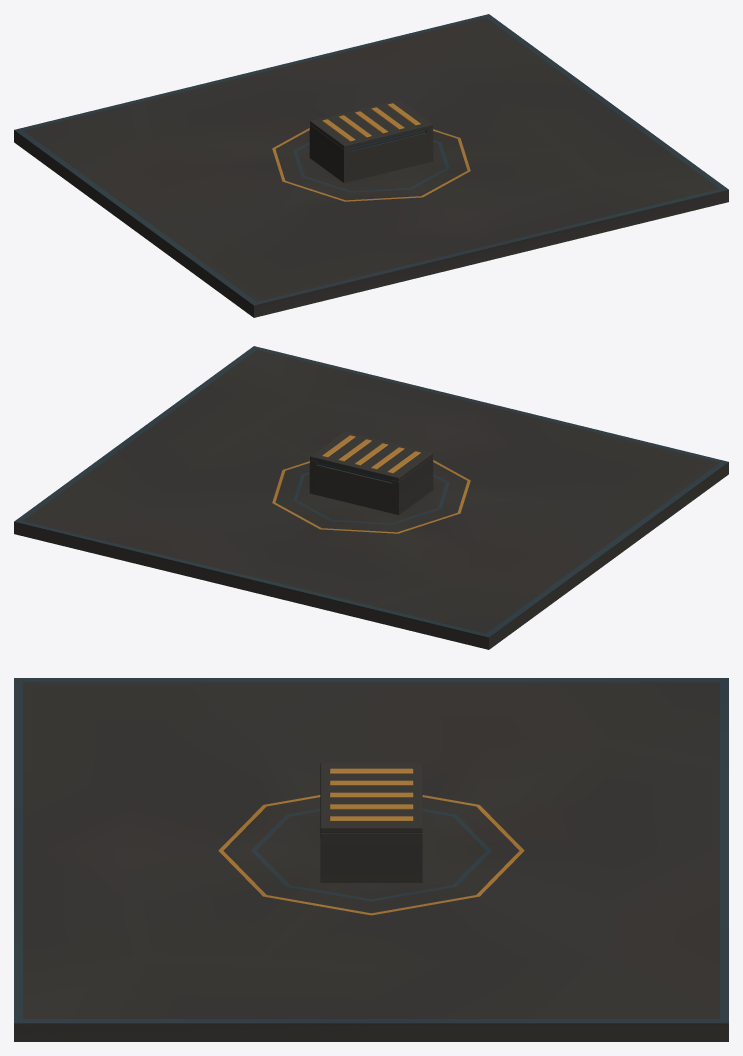
Rendered from forge-section-v1.glb.
3 renders of one model, top to bottom at view 1: azimuth 30°, elevation 25°; view 2: azimuth 150°, elevation 25°; view 3: azimuth 270°, elevation 25°, orthographic. The views are drawn at different scales.
Visible parts, largest first — view 1: GB_ARCHIVE_FLOOR_MOSAIC, GB_ARCHIVE_FLOOR_SUPPORT, GB_ARCHIVE_WARD_MASONRY, GB_FORGE_FLOOR_STONES, GB_FORGE_COOLING_PLINTH; view 2: GB_ARCHIVE_FLOOR_MOSAIC, GB_ARCHIVE_FLOOR_SUPPORT, GB_ARCHIVE_WARD_MASONRY, GB_FORGE_COOLING_PLINTH, GB_FORGE_FLOOR_STONES; view 3: GB_ARCHIVE_FLOOR_MOSAIC, GB_ARCHIVE_FLOOR_SUPPORT, GB_FORGE_FLOOR_STONES, GB_ARCHIVE_WARD_MASONRY, GB_FORGE_COOLING_PLINTH.
Boxes of the visible parts, x1=… form: GB_ARCHIVE_FLOOR_MOSAIC: x1=14, y1=14, x2=728, y2=306; GB_ARCHIVE_FLOOR_SUPPORT: x1=14, y1=132, x2=728, y2=317; GB_ARCHIVE_WARD_MASONRY: x1=310, y1=99, x2=432, y2=182; GB_FORGE_FLOOR_STONES: x1=14, y1=131, x2=728, y2=317; GB_FORGE_COOLING_PLINTH: x1=309, y1=103, x2=433, y2=182; GB_ARCHIVE_FLOOR_MOSAIC: x1=14, y1=346, x2=728, y2=638; GB_ARCHIVE_FLOOR_SUPPORT: x1=14, y1=463, x2=728, y2=649; GB_ARCHIVE_WARD_MASONRY: x1=310, y1=431, x2=432, y2=514; GB_FORGE_COOLING_PLINTH: x1=309, y1=435, x2=433, y2=514; GB_FORGE_FLOOR_STONES: x1=14, y1=464, x2=728, y2=649; GB_ARCHIVE_FLOOR_MOSAIC: x1=14, y1=678, x2=728, y2=1025; GB_ARCHIVE_FLOOR_SUPPORT: x1=14, y1=1025, x2=728, y2=1041; GB_FORGE_FLOOR_STONES: x1=14, y1=1025, x2=728, y2=1041; GB_ARCHIVE_WARD_MASONRY: x1=320, y1=763, x2=422, y2=882; GB_FORGE_COOLING_PLINTH: x1=320, y1=768, x2=422, y2=882.
Size of the model in its own units: 16 by 1.62 by 14.
